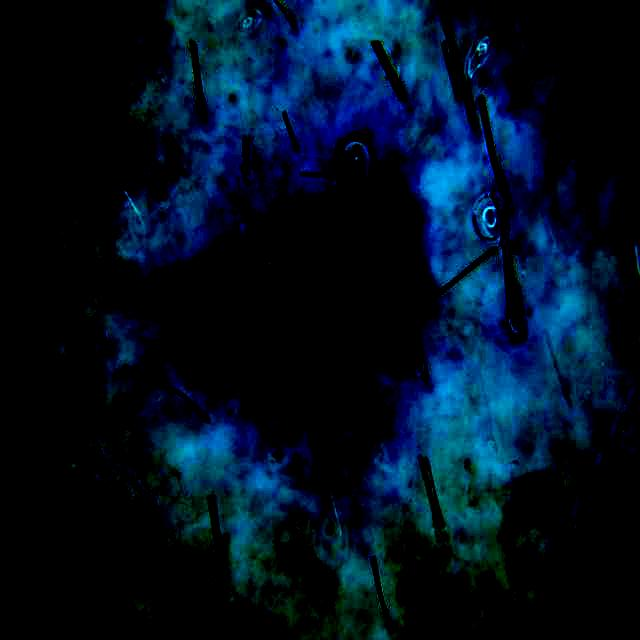AKIEC: (161, 205, 443, 474)
